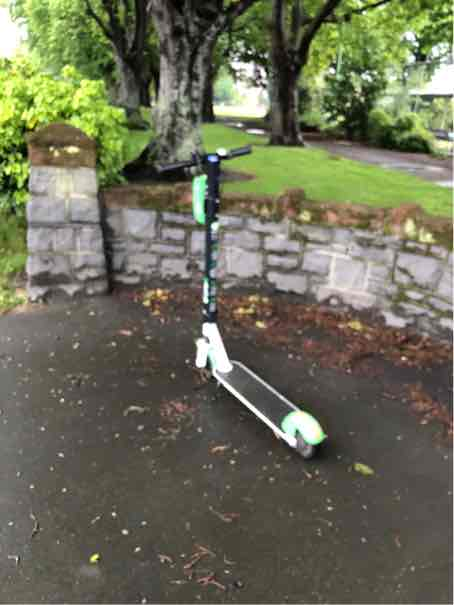scooter: (135, 134, 340, 469)
